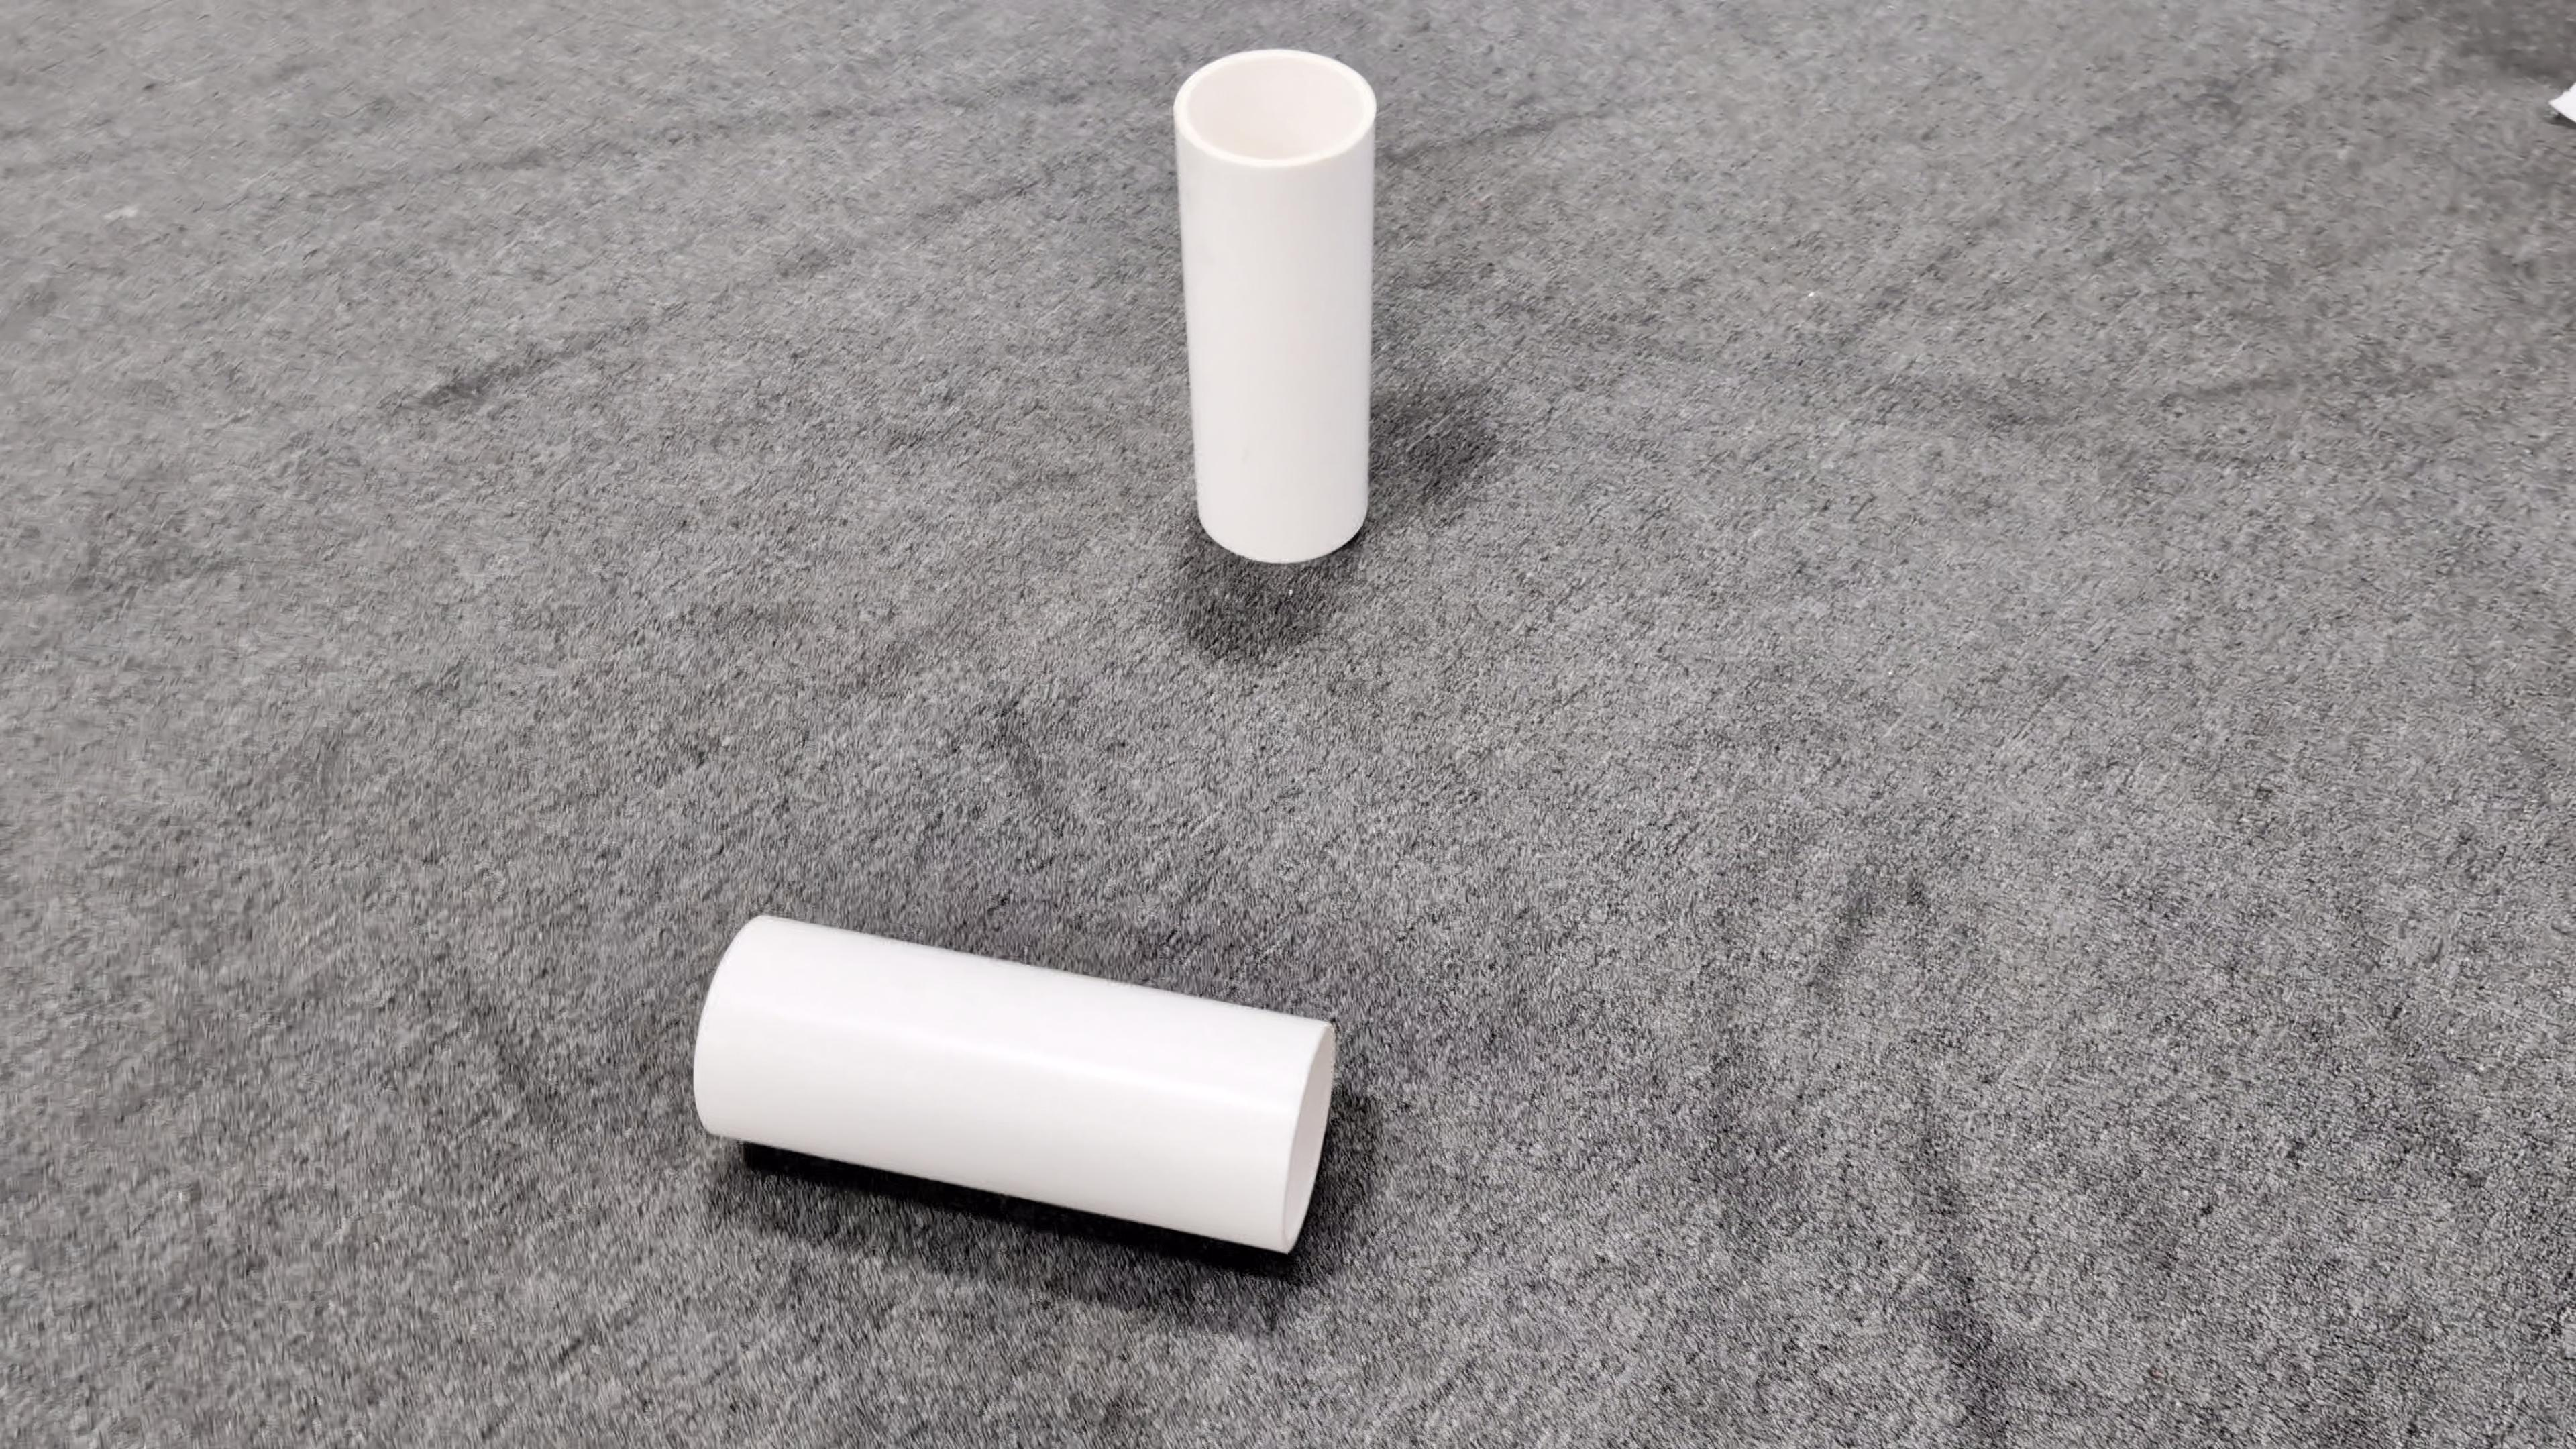coral: (692, 908, 1345, 1256), (1168, 48, 1382, 563)
